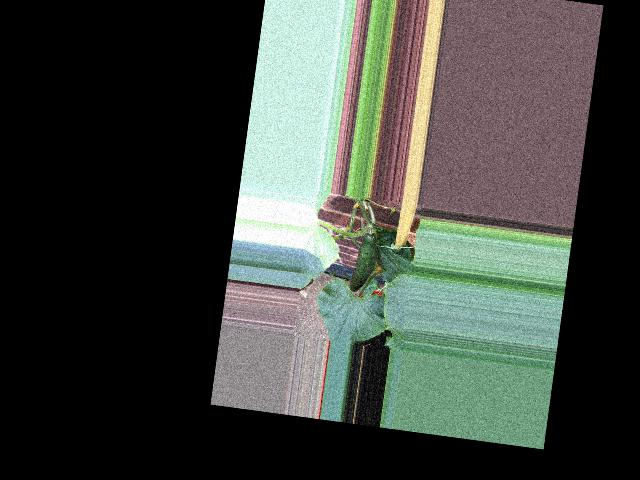cucumber: (347, 231, 379, 294)
